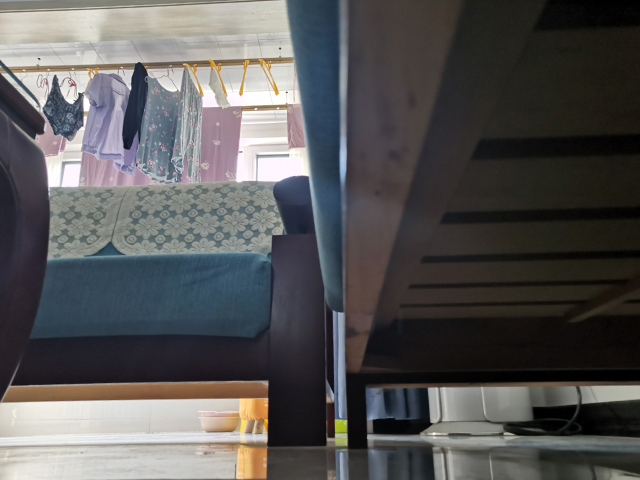sofa: (285, 1, 639, 451), (10, 174, 337, 448)
wire: (503, 383, 586, 438)
